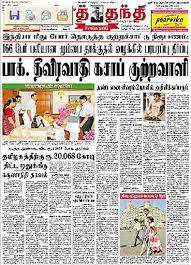Printing industry: (3, 1, 191, 265)
